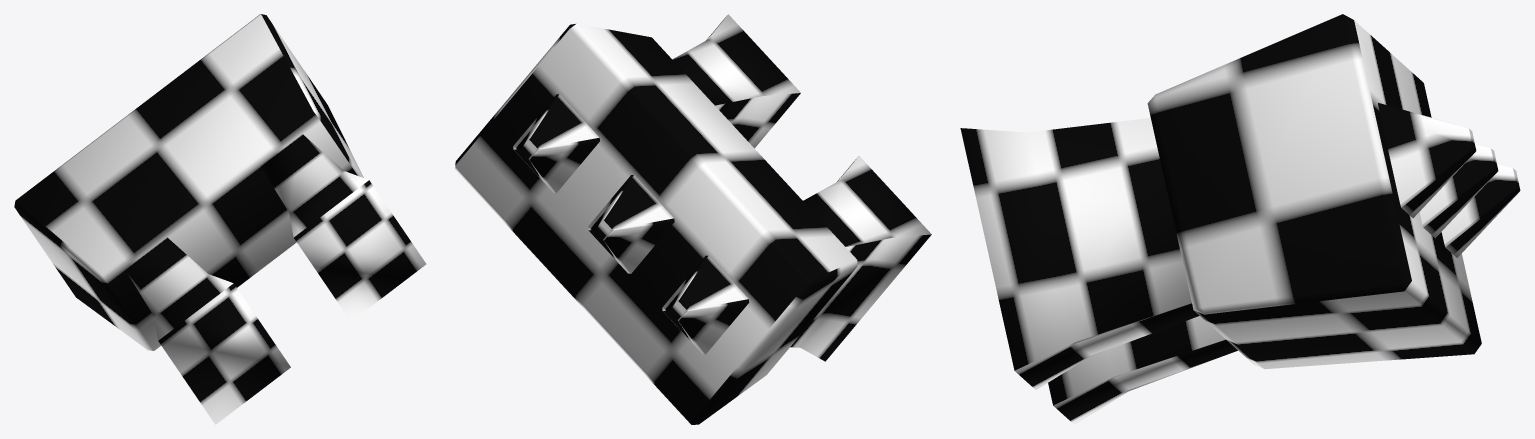
The model's file is initqu46.dae.
3 renders of one model, left to right at view 1: azimuth 30°, elevation 25°; view 2: azimuth 150°, elevation 25°; view 3: azimuth 270°, elevation 25°, orthographic. The views are drawn at different scales.
Parts seen in each view (by area): view 1: item; view 2: item; view 3: item.
Part boxes in pixels (x1,y1,x2,y2): item: (14,14,426,424); item: (455,14,931,424); item: (960,14,1520,424).
Size of the model in its own units: 1.51 by 1.47 by 1.49.
1 material, 1 textured.
